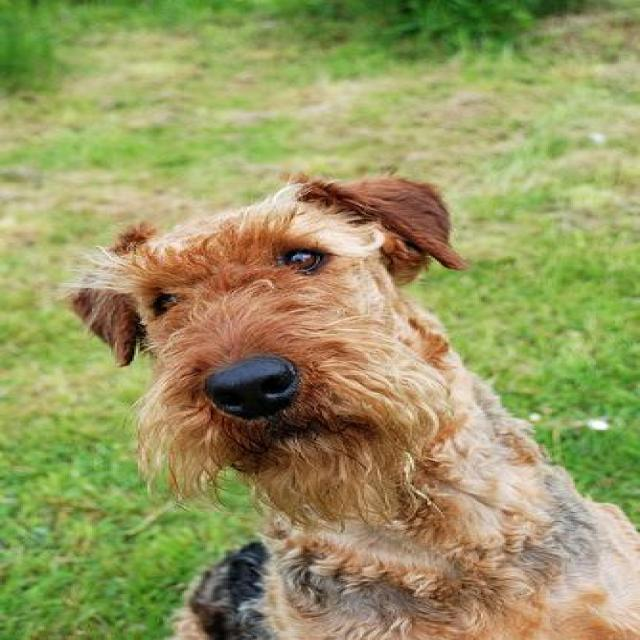airedale: (54, 170, 636, 638)
